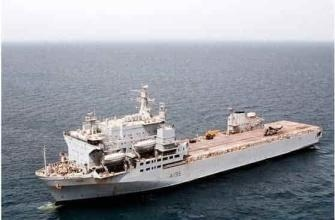warship: (32, 92, 320, 199)
